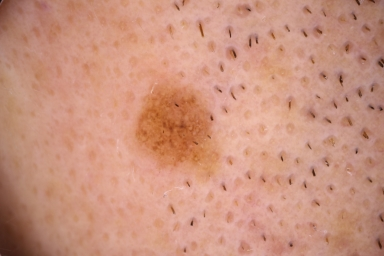melanoma: (137, 86, 215, 164)
